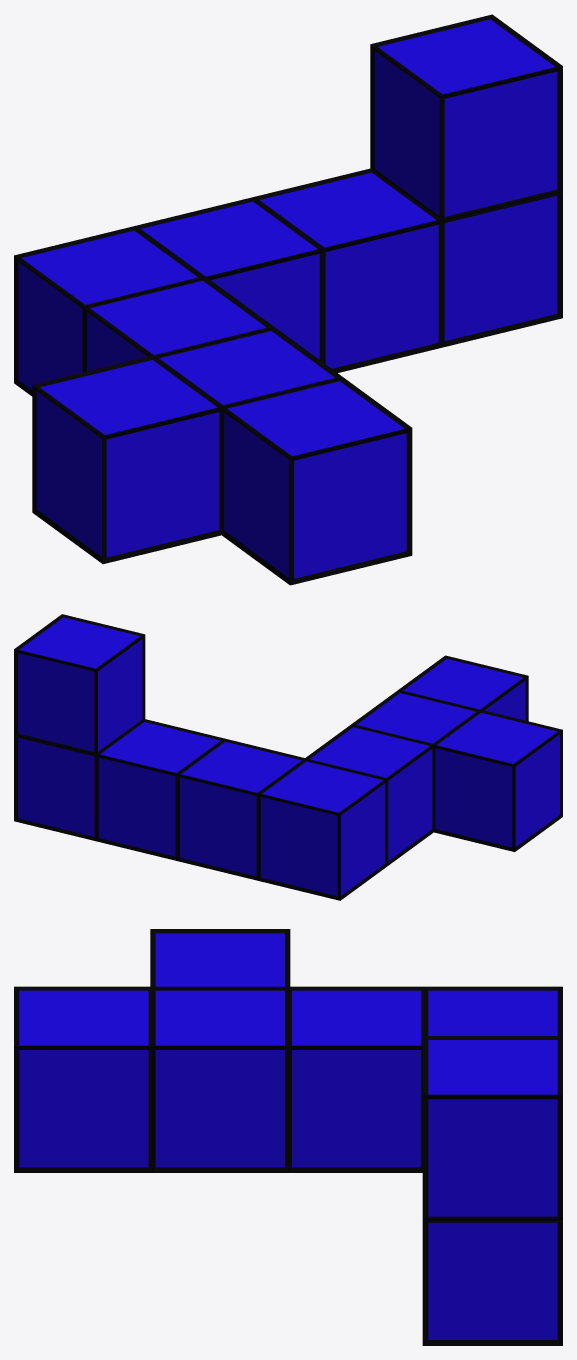
3 renders of one model, top to bottom at view 1: azimuth 30°, elevation 25°; view 2: azimuth 150°, elevation 25°; view 3: azimuth 270°, elevation 25°, orthographic. The views are drawn at different scales.
Visible parts, largest first — view 1: Cube.008, Cube.004, Cube.009_Cube.003, Cube.006, Cube.007, Cube.003, Cube.005, Cube.003_Cube.009, Cube.001, Cube.017, Cube.002, Cube.011 (+6 smaller); view 2: Cube.004, Cube.003, Cube.008, Cube.005, Cube.006, Cube.003_Cube.009, Cube.007, Cube.009_Cube.003, Cube.001, Cube.013, Cube.017, Cube.011 (+6 smaller); view 3: Cube.009_Cube.003, Cube.001, Cube.003_Cube.009, Cube.008, Cube.007, Cube.004, Cube.003, Cube.017, Cube.002, Cube.010, Cube.012, Cube.016 (+2 smaller).
Boxes of the visible parts, x1,y1,x2,y2 form: Cube.008: (374,19,557,216); Cube.004: (36,360,219,557); Cube.009_Cube.003: (224,381,406,578); Cube.006: (260,172,438,368); Cube.007: (444,196,557,340); Cube.003: (18,230,197,389); Cube.005: (141,201,319,359); Cube.003_Cube.009: (87,280,266,371); Cube.001: (159,331,334,404); Cube.017: (370,14,562,223); Cube.002: (219,376,412,585); Cube.011: (32,355,224,564); Cube.004: (435,713,559,847); Cube.003: (261,761,385,895); Cube.008: (18,617,142,751); Cube.005: (180,741,301,876); Cube.006: (99,722,220,856); Cube.003_Cube.009: (310,727,432,860); Cube.007: (18,738,94,836); Cube.009_Cube.003: (403,659,525,720); Cube.001: (357,693,475,743); Cube.013: (257,758,388,900); Cube.017: (14,614,145,756); Cube.011: (431,709,562,851); Cube.009_Cube.003: (19,990,148,1167); Cube.001: (155,990,284,1167); Cube.003_Cube.009: (292,990,421,1167); Cube.008: (428,1040,557,1216); Cube.007: (428,1222,557,1339); Cube.004: (155,933,284,986); Cube.003: (428,990,557,1035); Cube.017: (422,1036,562,1222); Cube.002: (14,986,154,1172); Cube.010: (150,986,290,1172); Cube.012: (286,986,426,1172); Cube.016: (422,1218,562,1345).
Size of the model in its own units: 10.06 by 4.06 by 8.06.
